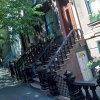stairs: (32, 42, 76, 88)
